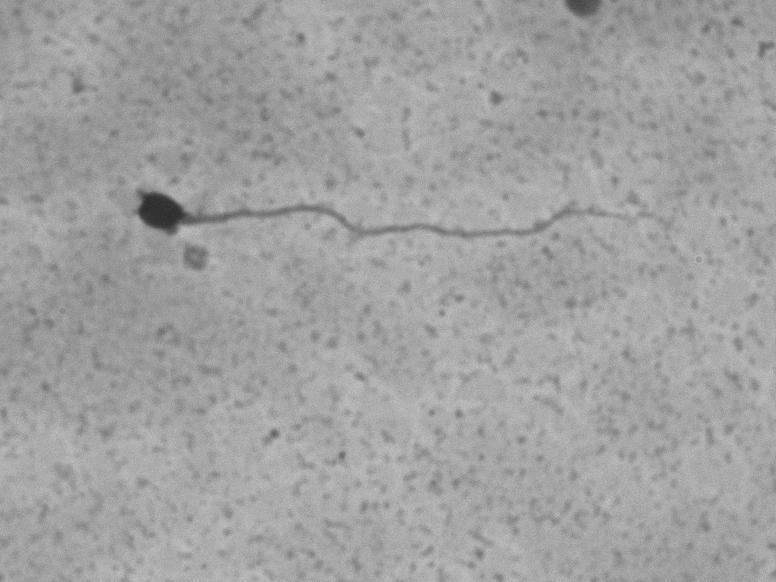Abnormal: (95, 124, 635, 310)
